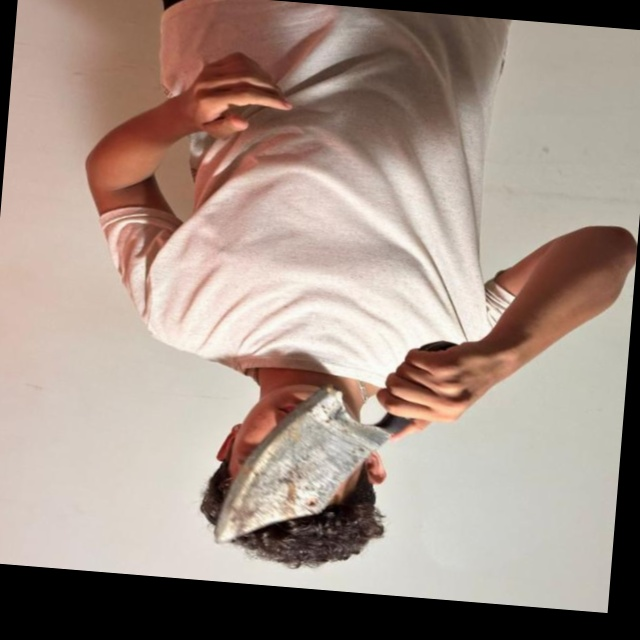Sharp-Object: (215, 376, 383, 554)
